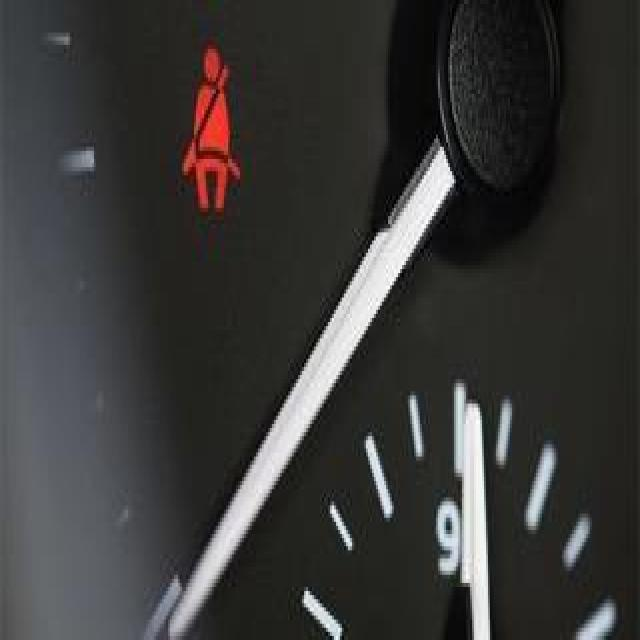kontrolka: (168, 45, 256, 236), (179, 49, 263, 236)
